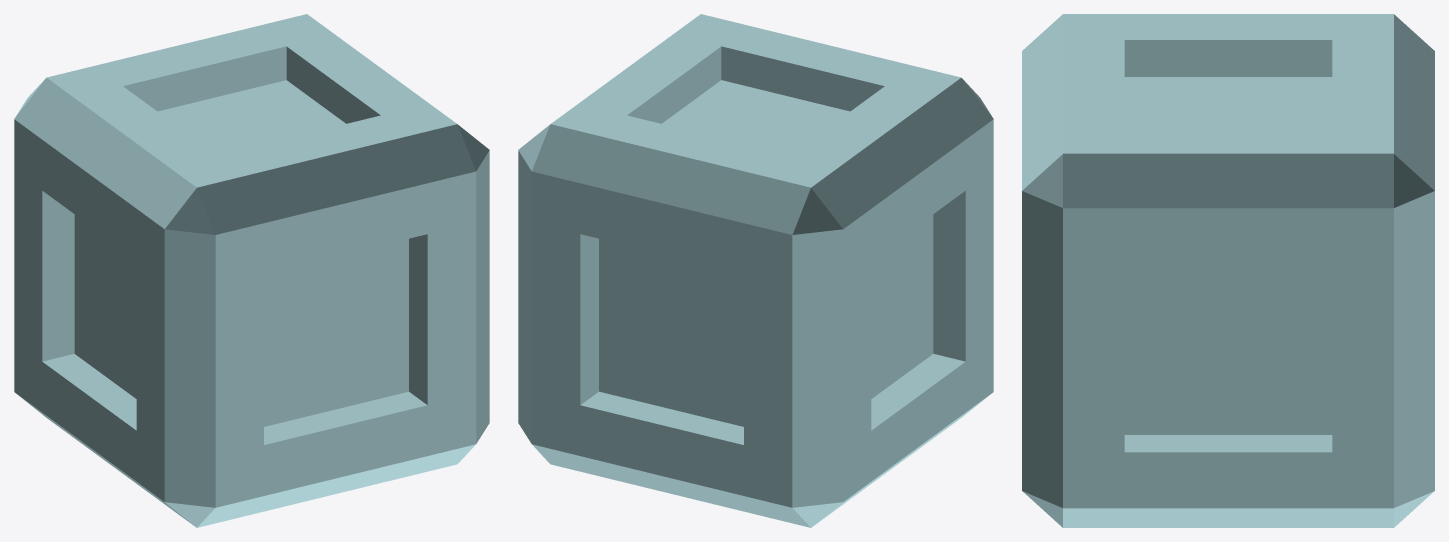
File: stone_block.obj
3 renders of one model, left to right at view 1: azimuth 30°, elevation 25°; view 2: azimuth 150°, elevation 25°; view 3: azimuth 270°, elevation 25°, orthographic. The views are drawn at different scales.
Visible parts, largest first — view 1: stone_block; view 2: stone_block; view 3: stone_block.
Part boxes in pixels (box(x1,y1,x2,y2)): stone_block: box(14, 14, 489, 527); stone_block: box(518, 14, 993, 527); stone_block: box(1022, 14, 1434, 527).
Size of the model in its own units: 2.6 by 2.6 by 2.6.
